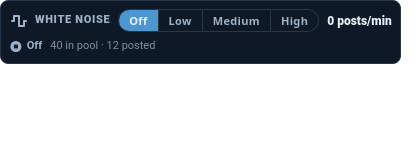
Test case: NoiseControl (Gate-1 folds) › re-reads the state after a write that got no answer
The image size is (418, 160).
Click the radio button labelled "Low" at (180, 20), box [158,10,202,31]
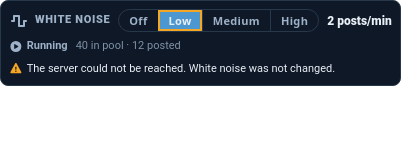
Now the message "The server could not be reached. White noise was not changed." is shown, box [9,60,369,77]
